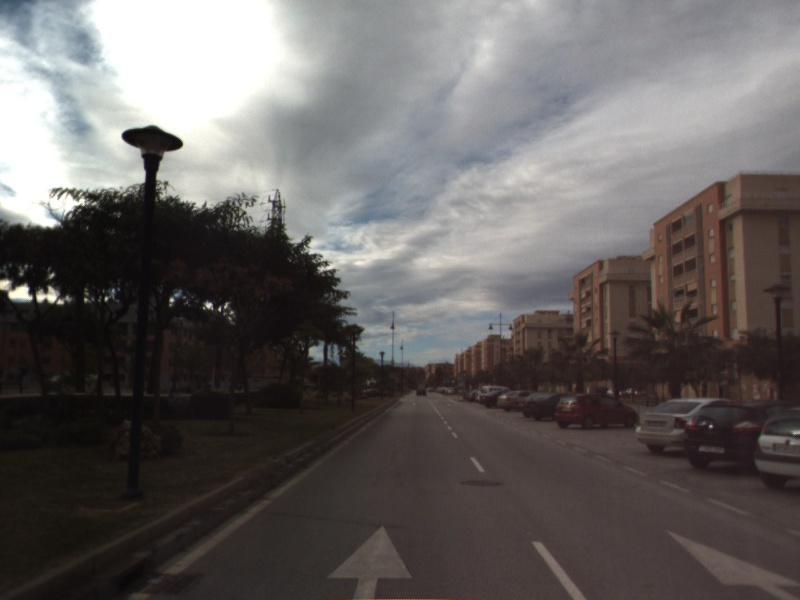STRAIGHT: (664, 528, 800, 600), (324, 523, 414, 600)
